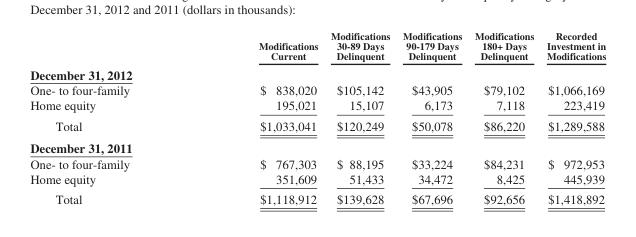table: (29, 29, 605, 205)
table column: (29, 29, 193, 205), (193, 29, 323, 205), (323, 29, 395, 205), (395, 29, 467, 205), (467, 29, 539, 205), (539, 29, 605, 205)
table column header: (29, 29, 605, 64)
table projected row header: (29, 136, 605, 155), (29, 64, 605, 82)
table row: (29, 29, 605, 64), (29, 115, 605, 136), (29, 136, 605, 155), (29, 64, 605, 82), (29, 97, 605, 115), (29, 170, 605, 188), (29, 188, 605, 205), (29, 82, 605, 97), (29, 155, 605, 170)
